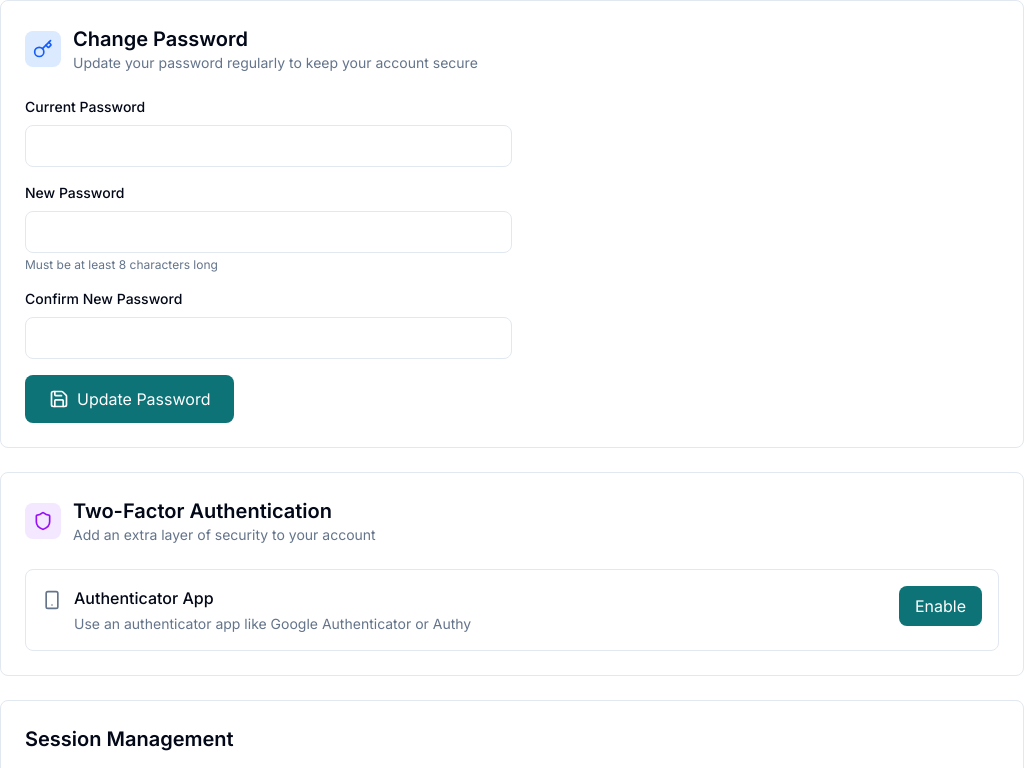
Test: SecuritySettings › should successfully change password
The image size is (1024, 768).
Type "oldpassword123" into the password field labelled "Current Password" at (268, 146), box [25,125,512,167]
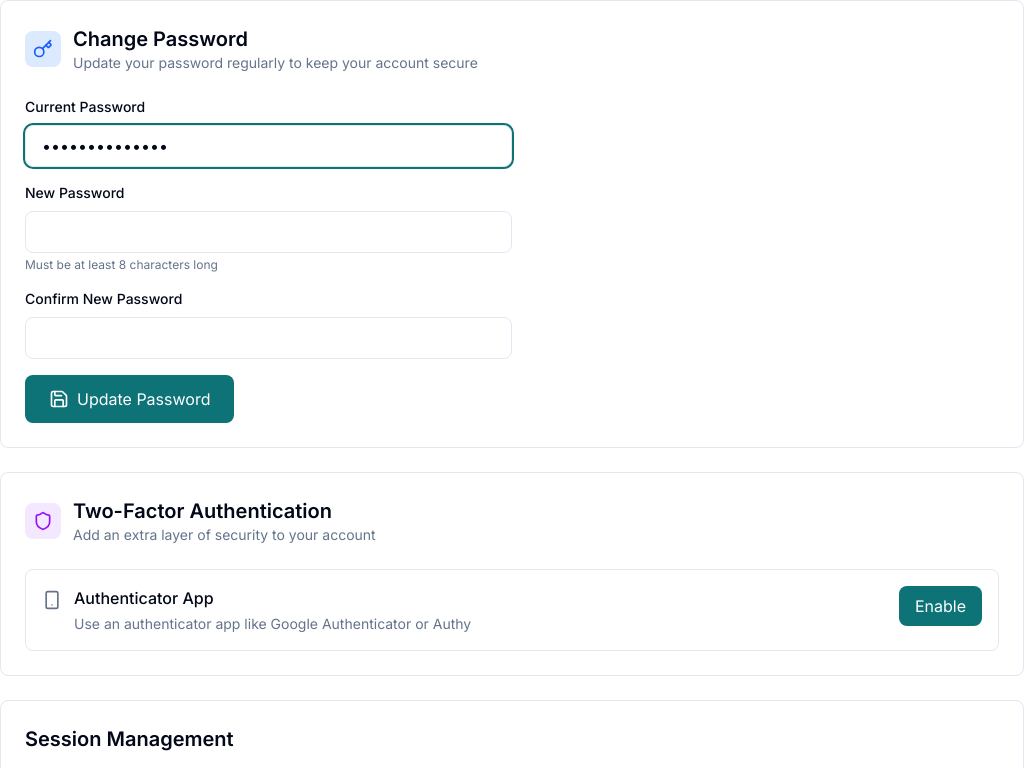
Type "newpassword123" into the password field labelled "New Password" at (268, 232), box [25,211,512,253]
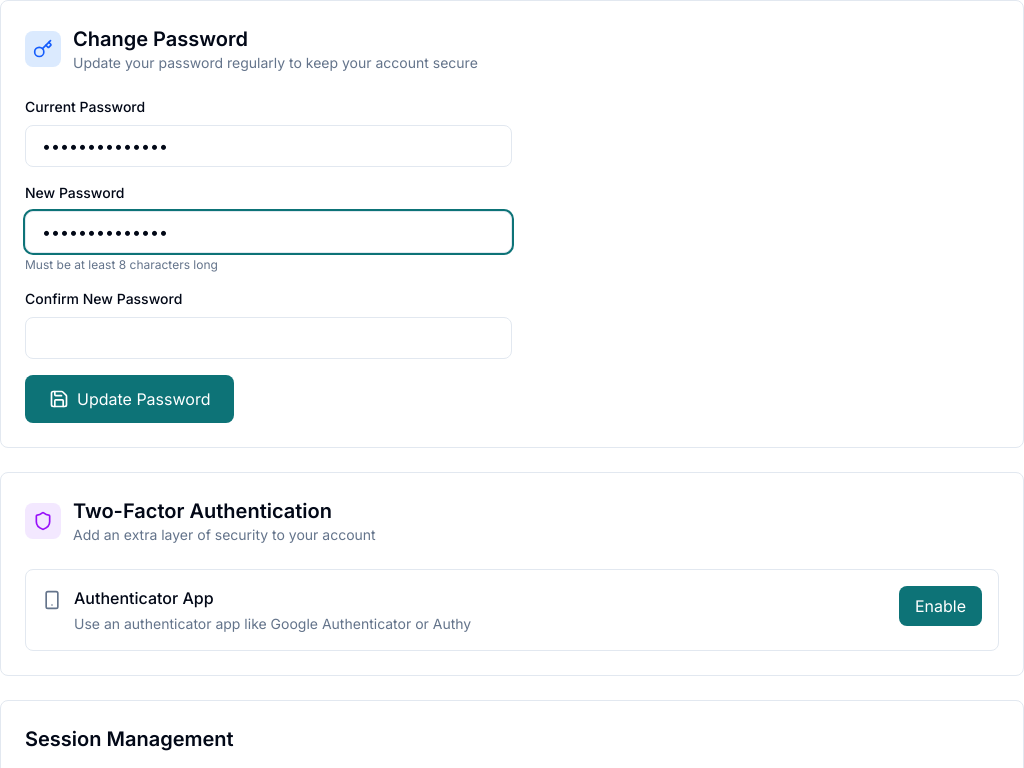
Type "newpassword123" into the password field labelled "Confirm New Password" at (268, 338), box [25,317,512,359]
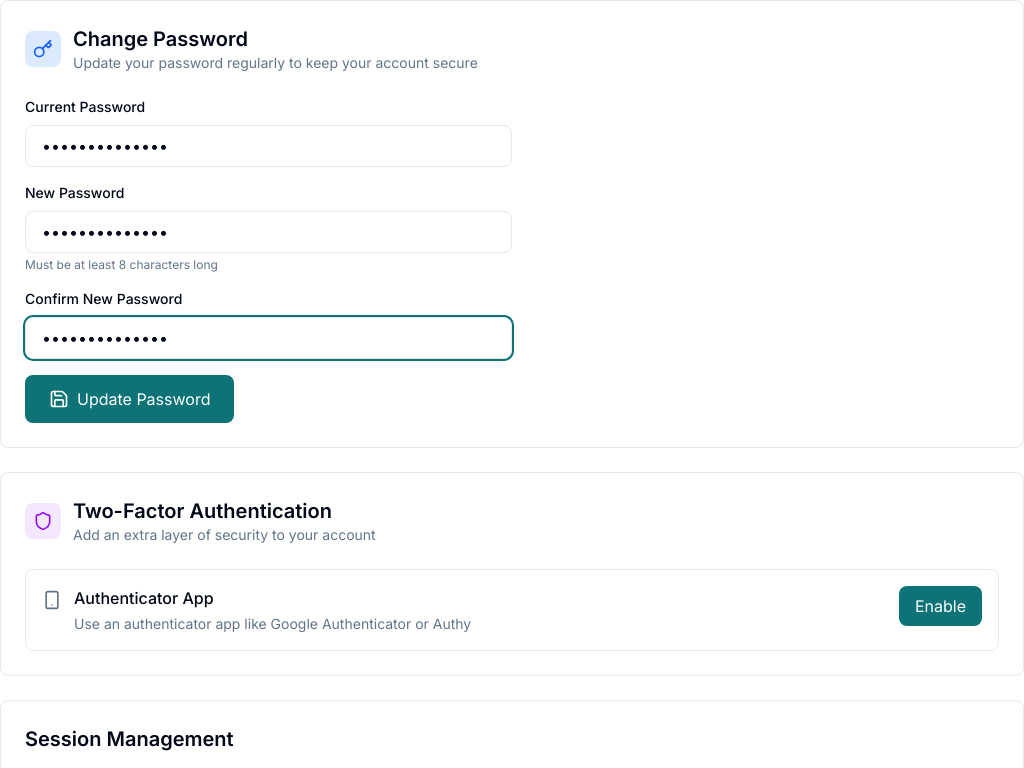
Click the button "Update Password" at (130, 399), box [25,375,234,423]
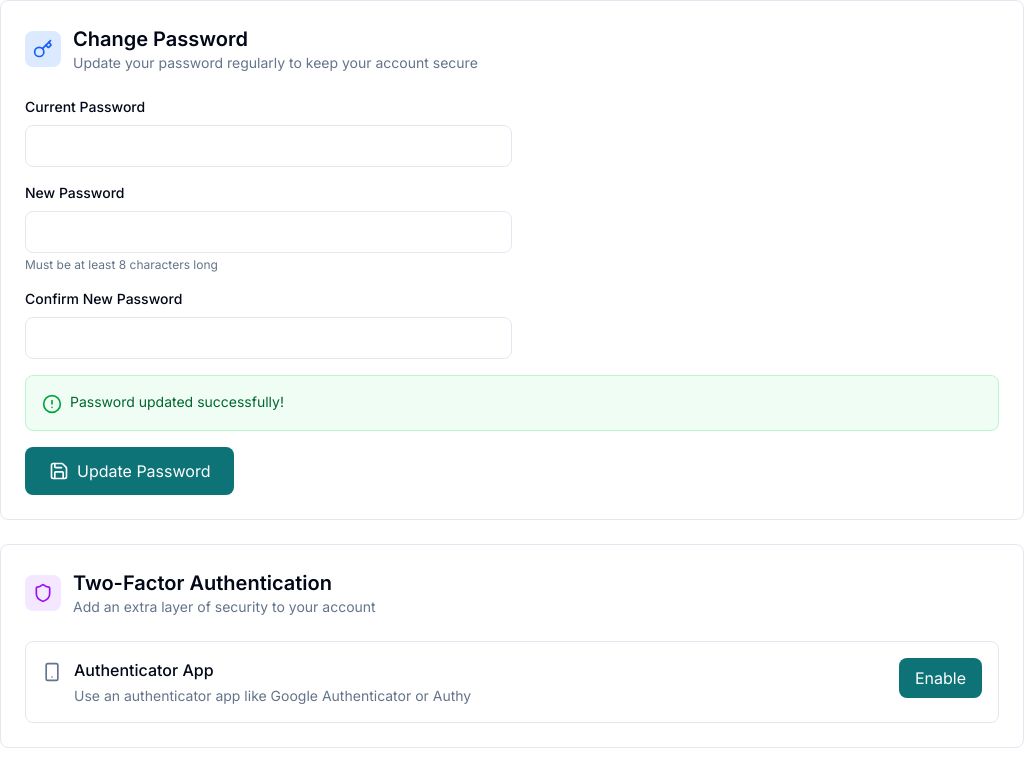
Result: the text "Password updated successfully!" is shown at [70,392,284,412]
Result: the password field labelled "Current Password" is empty at [25,125,512,167]
Result: the password field labelled "New Password" is empty at [25,211,512,253]
